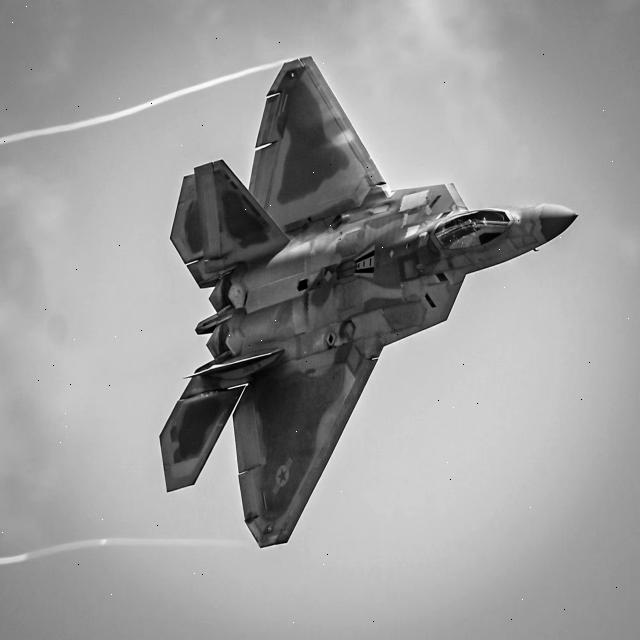F22: (121, 32, 588, 562)
